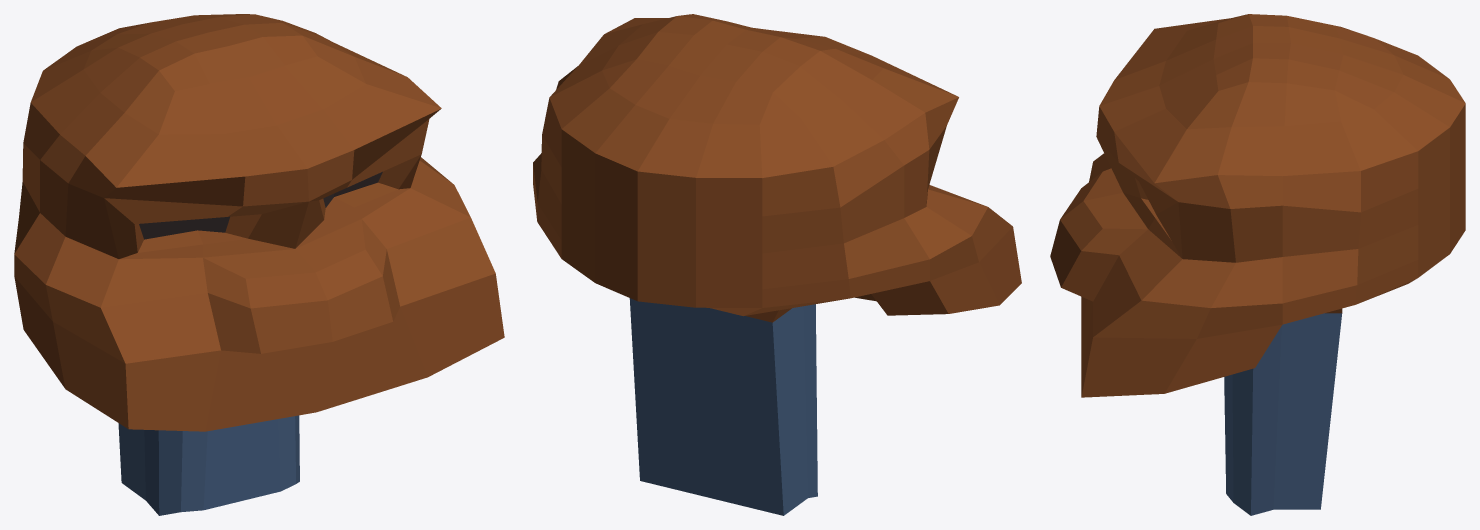
The model's file is Head_Basic.fbx.
3 renders of one model, left to right at view 1: azimuth 30°, elevation 25°; view 2: azimuth 150°, elevation 25°; view 3: azimuth 270°, elevation 25°, orthographic. The views are drawn at different scales.
Visible parts, largest first — view 1: Head Piece; view 2: Head Piece; view 3: Head Piece.
Part boxes in pixels (<box>): Head Piece: <box>14,14,504,515</box>; Head Piece: <box>533,14,1021,515</box>; Head Piece: <box>1050,14,1465,515</box>.
Size of the model in its own units: 3.97 by 4.12 by 3.52.
